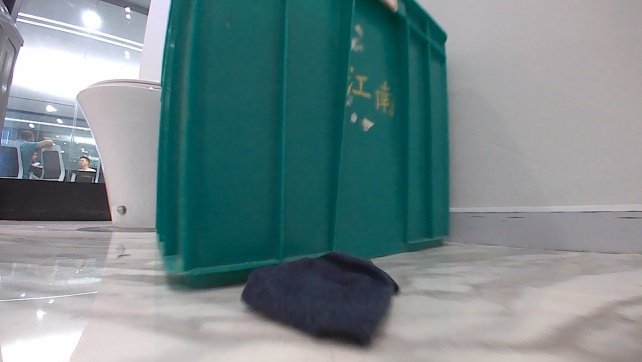socks: (235, 247, 400, 346)
toilet: (75, 76, 164, 231)
